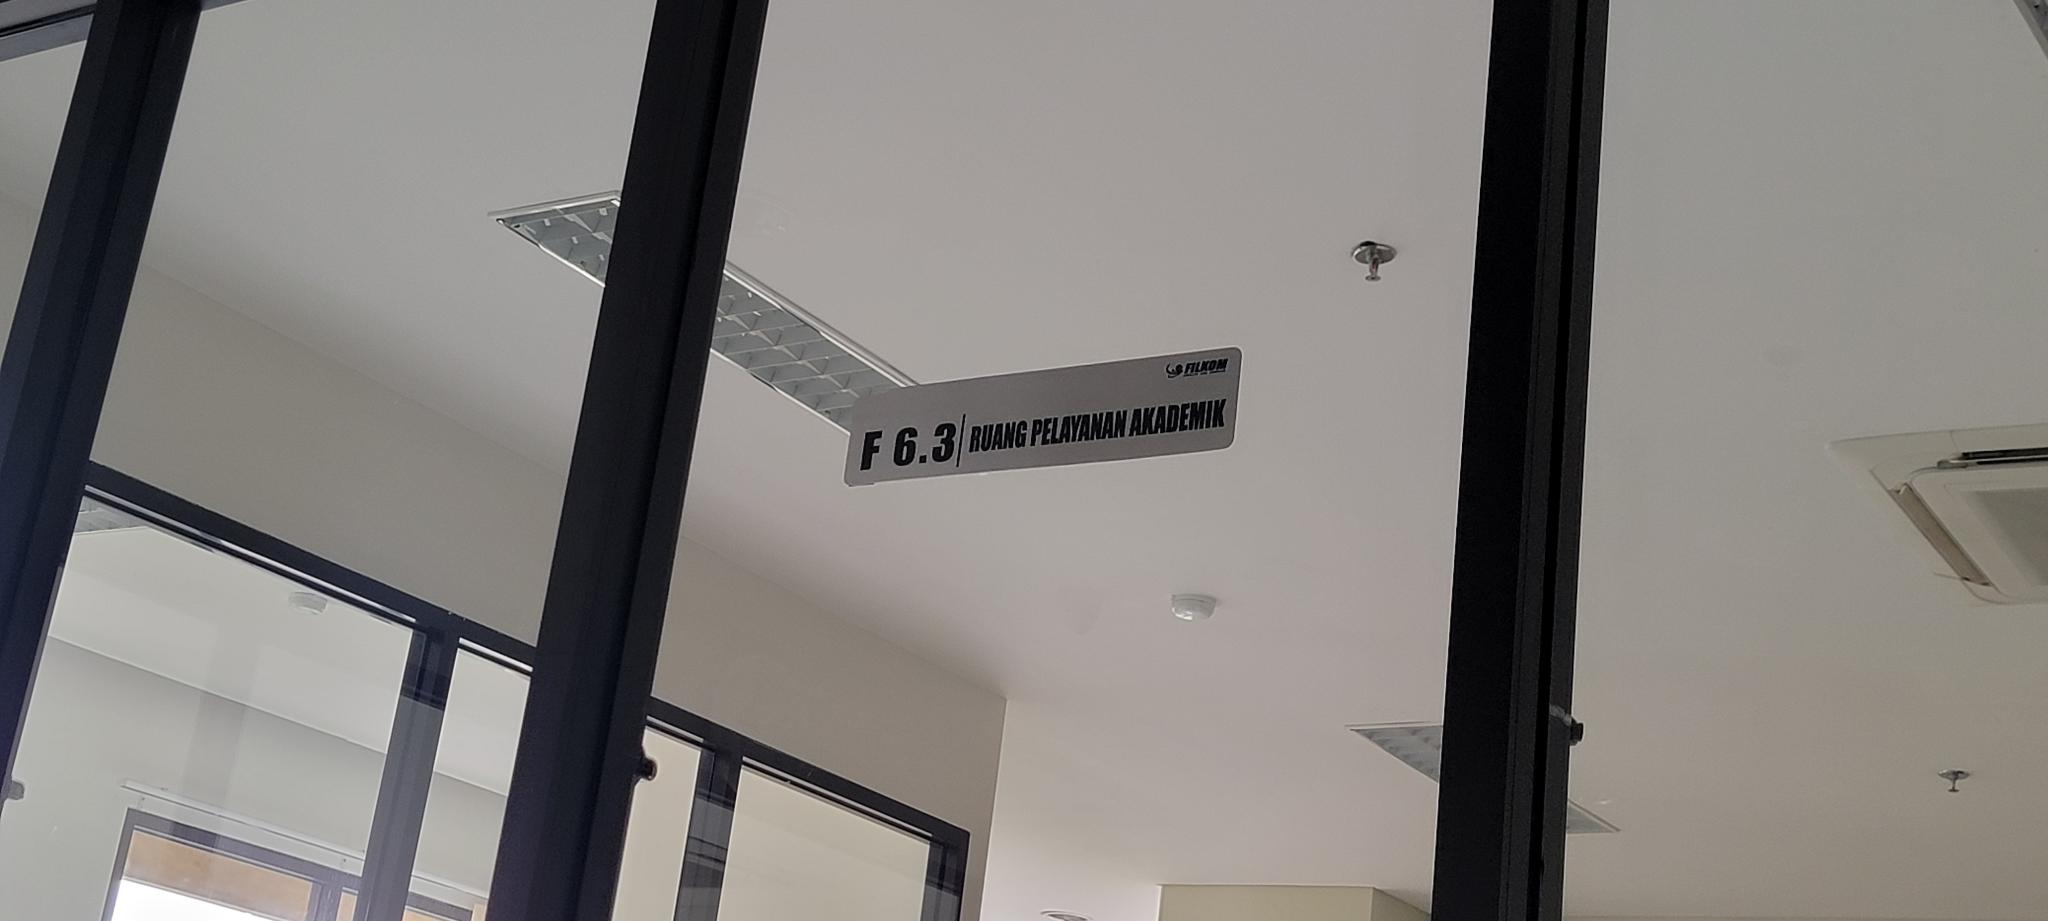plate: (844, 345, 1243, 487)
